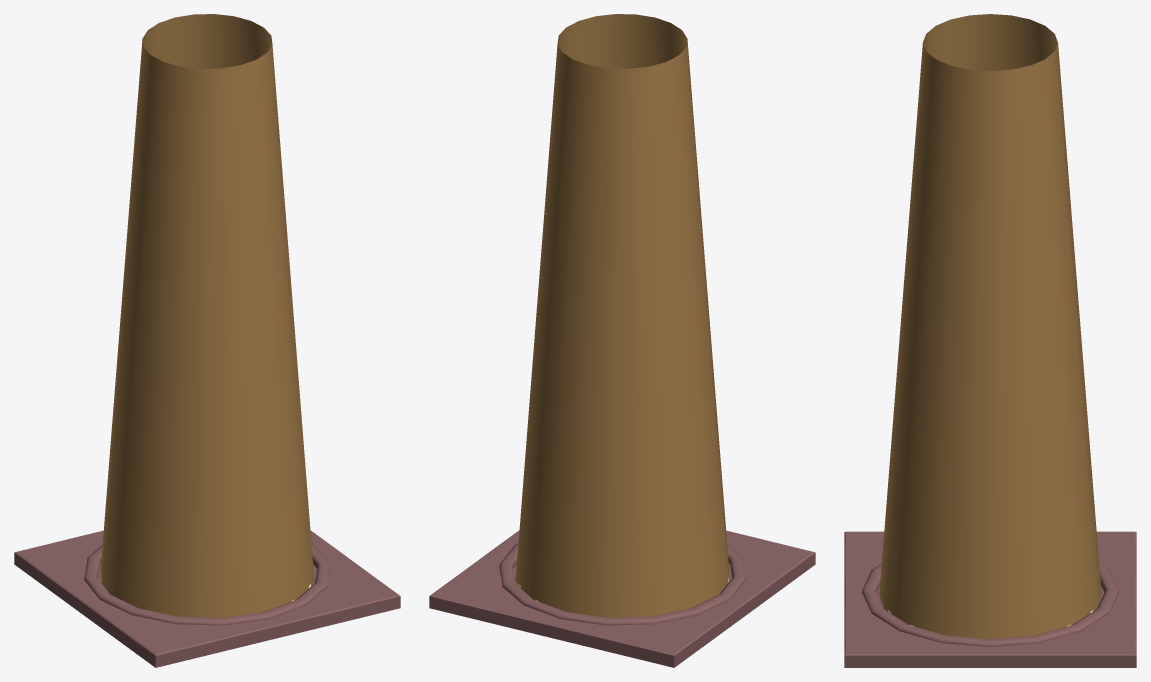
The model's file is FBX_Hazard_FloorFire_Large.fbx.
3 views of the same model, side by side, from view 1: azimuth 30°, elevation 25°; view 2: azimuth 150°, elevation 25°; view 3: azimuth 270°, elevation 25° (orthographic). The views are drawn at different scales.
Visible parts, largest first — view 1: Hazard_FloorFire_Fire_Large, Hazard_FloorFire_Large; view 2: Hazard_FloorFire_Fire_Large, Hazard_FloorFire_Large; view 3: Hazard_FloorFire_Fire_Large, Hazard_FloorFire_Large.
Boxes of the visible parts, x1,y1,x2,y2 form: Hazard_FloorFire_Fire_Large: (100,14,314,617); Hazard_FloorFire_Large: (14,530,400,667); Hazard_FloorFire_Fire_Large: (515,14,729,617); Hazard_FloorFire_Large: (429,530,815,667); Hazard_FloorFire_Fire_Large: (879,14,1101,639); Hazard_FloorFire_Large: (844,531,1136,667).
Bounding box in the file's own units: 200 × 425 × 200.
